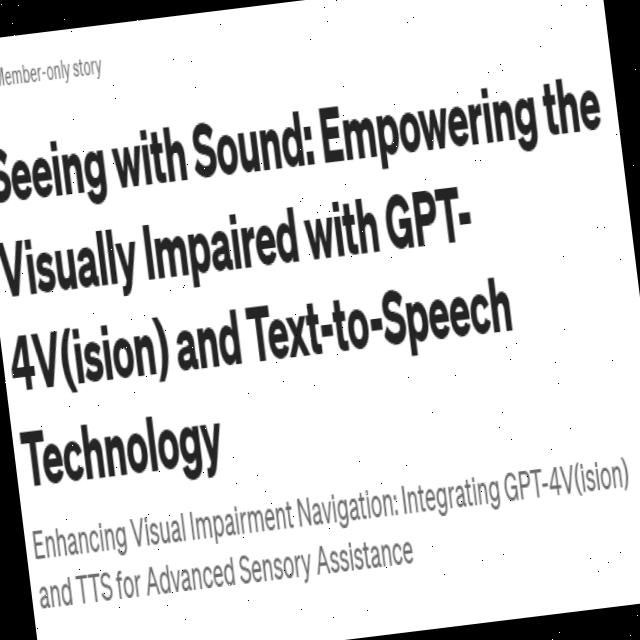word: (241, 268, 518, 399), (310, 72, 545, 182), (16, 401, 237, 514), (3, 307, 177, 420), (135, 196, 306, 295), (0, 215, 144, 318), (186, 100, 321, 196), (0, 122, 117, 228), (378, 173, 484, 268), (497, 444, 635, 513), (104, 114, 194, 200), (396, 460, 505, 527), (167, 302, 249, 389), (297, 193, 387, 269), (292, 479, 402, 540), (311, 529, 421, 588), (186, 492, 297, 548), (140, 546, 239, 607), (28, 516, 133, 572), (536, 65, 606, 144), (234, 539, 315, 597), (126, 507, 191, 557), (0, 52, 72, 94), (71, 562, 117, 615), (110, 564, 148, 611), (35, 573, 76, 615), (69, 50, 107, 85)
